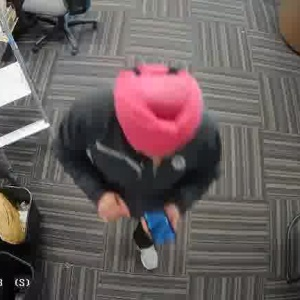person: (54, 64, 216, 268)
